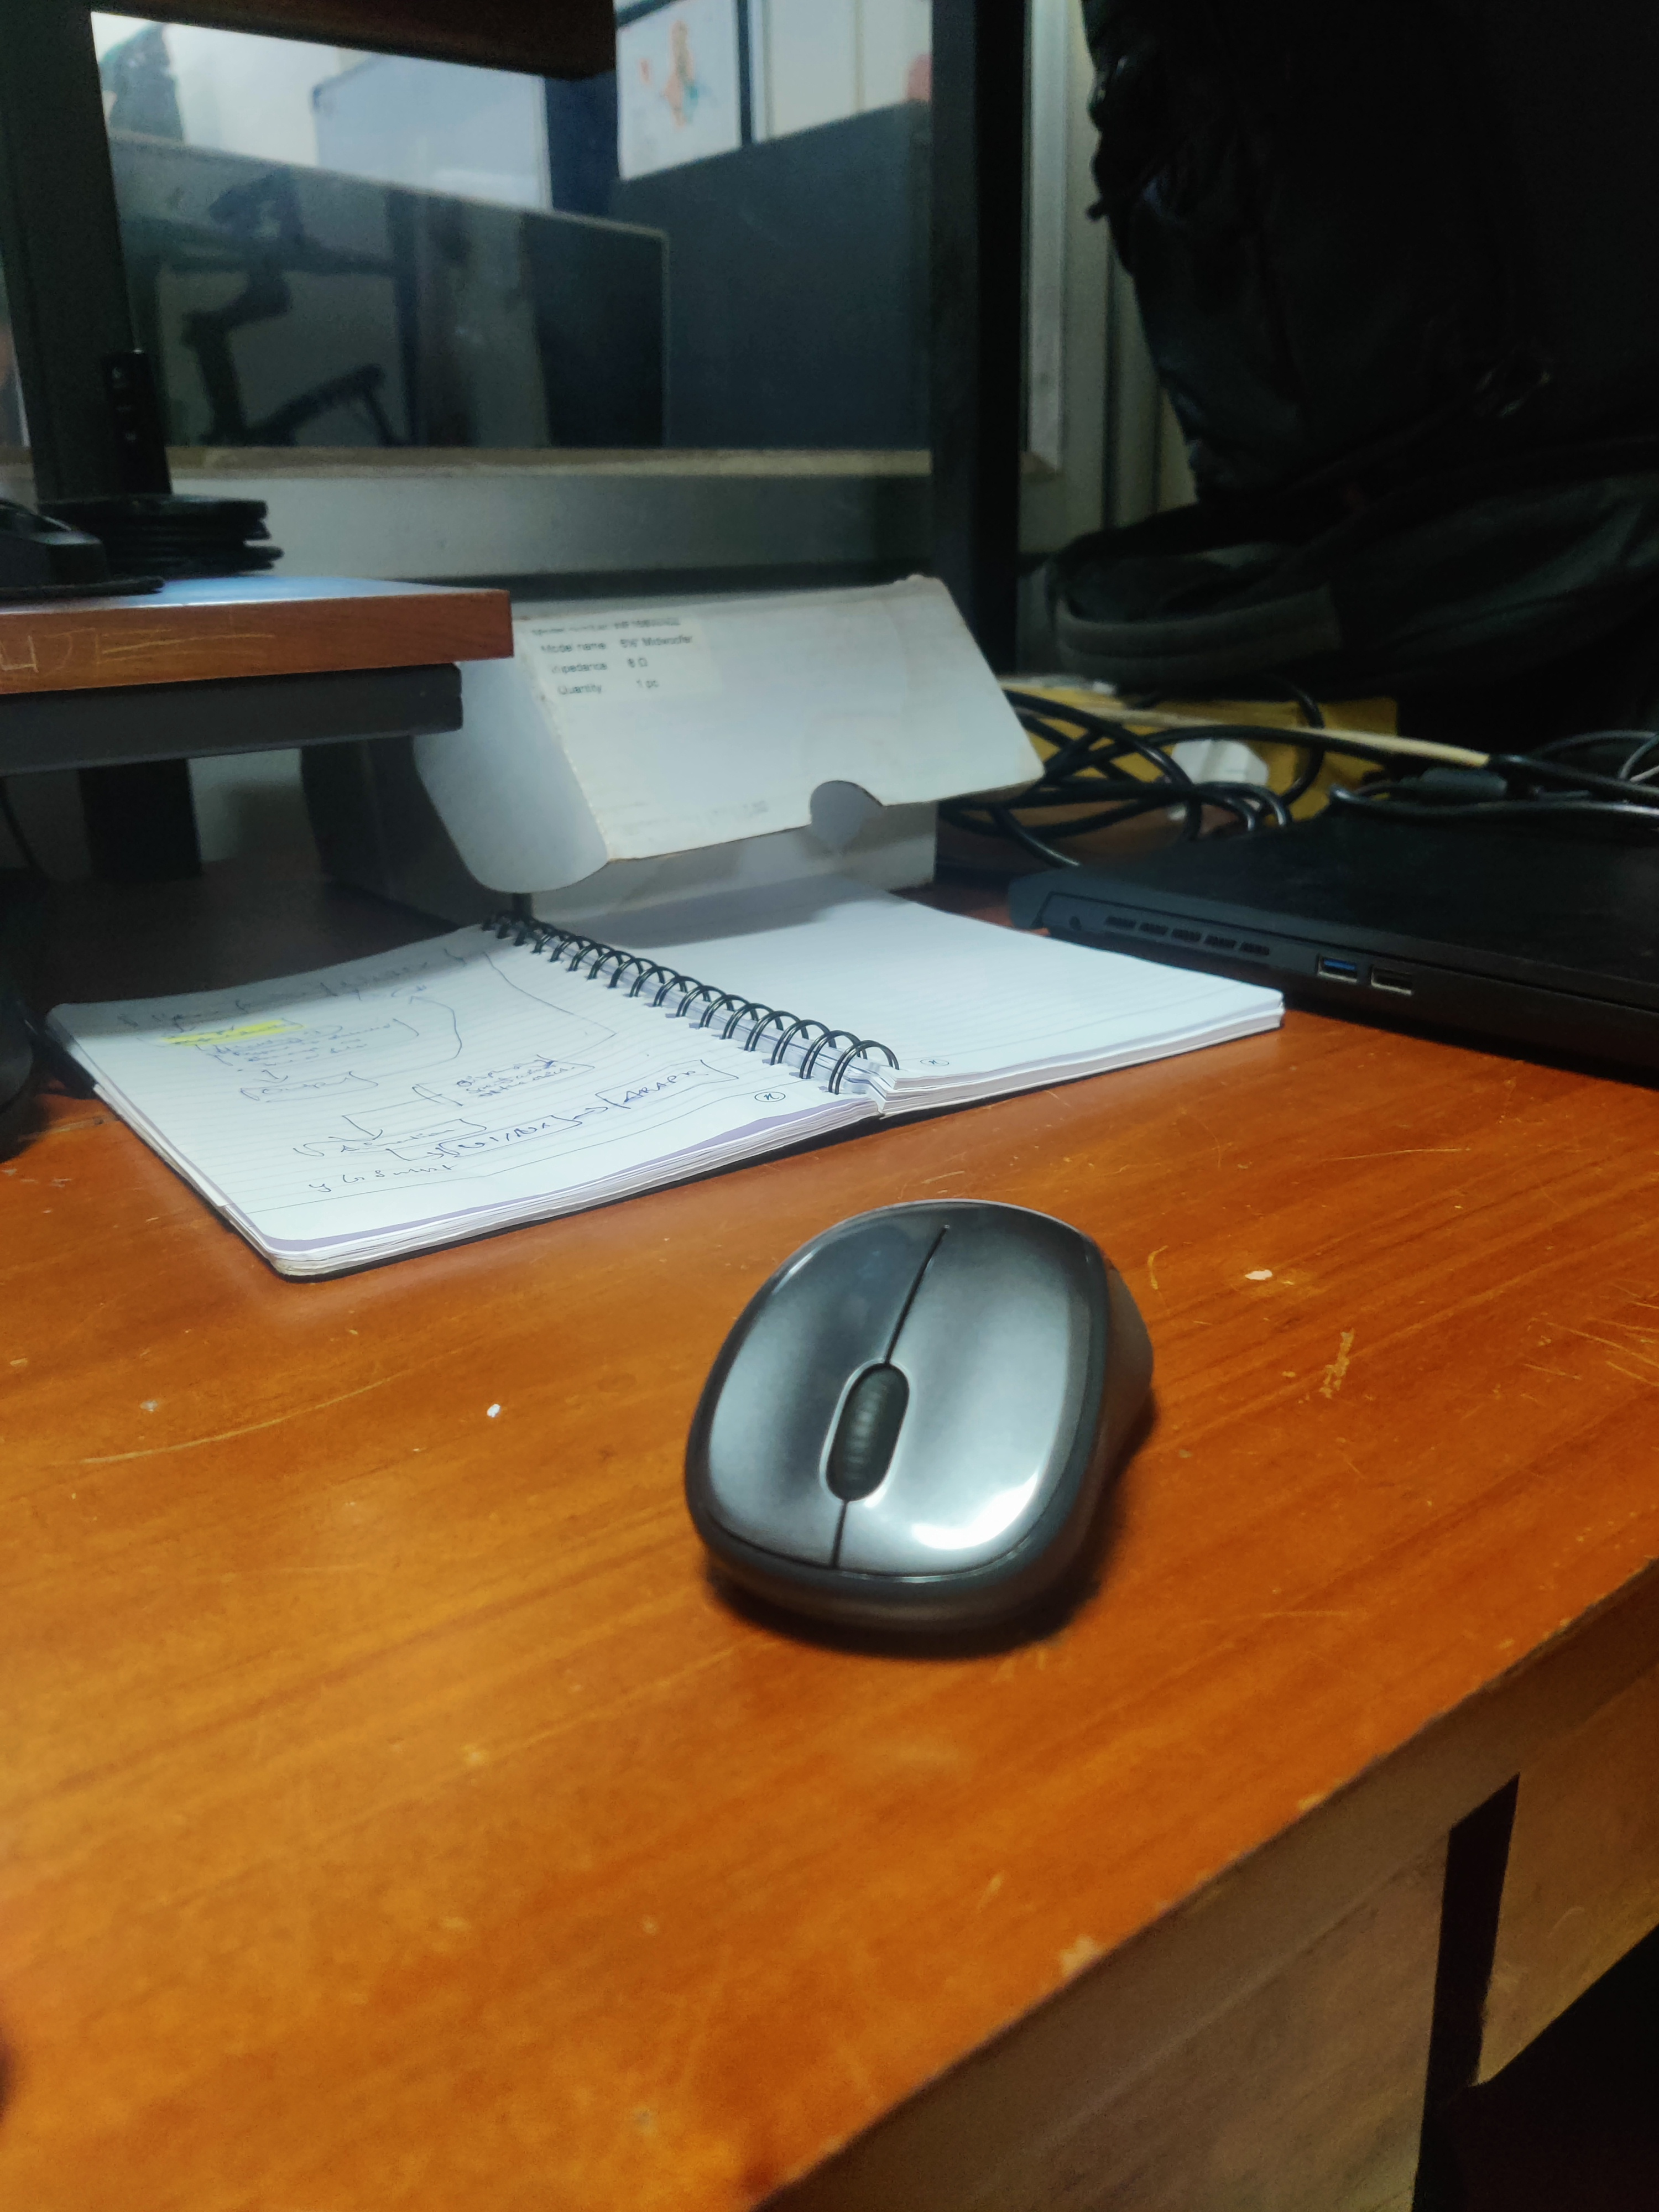logitechMouse: (671, 1172, 1176, 1676)
